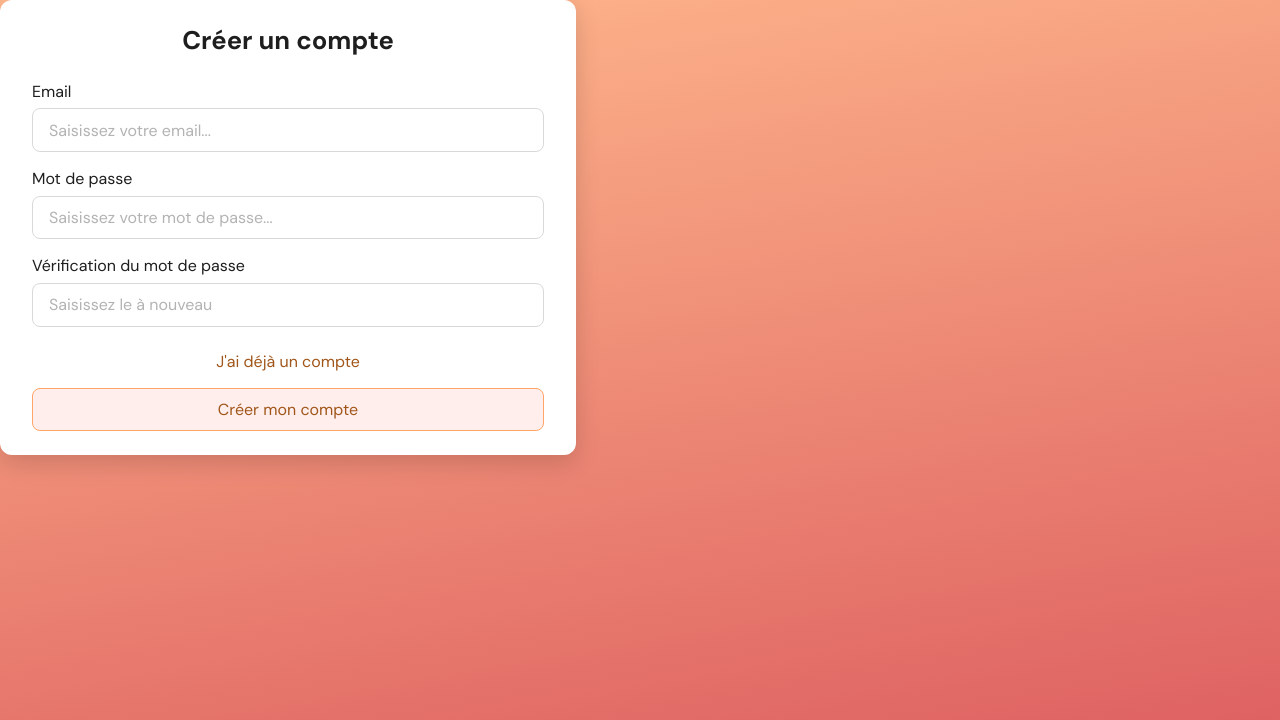
Page Créer un compte › affiche « Cet email est déjà utilisé » renvoyé par l’API
Type "bob@mail.fr" into the field labelled "Email" at (288, 130), box [32,108,544,152]
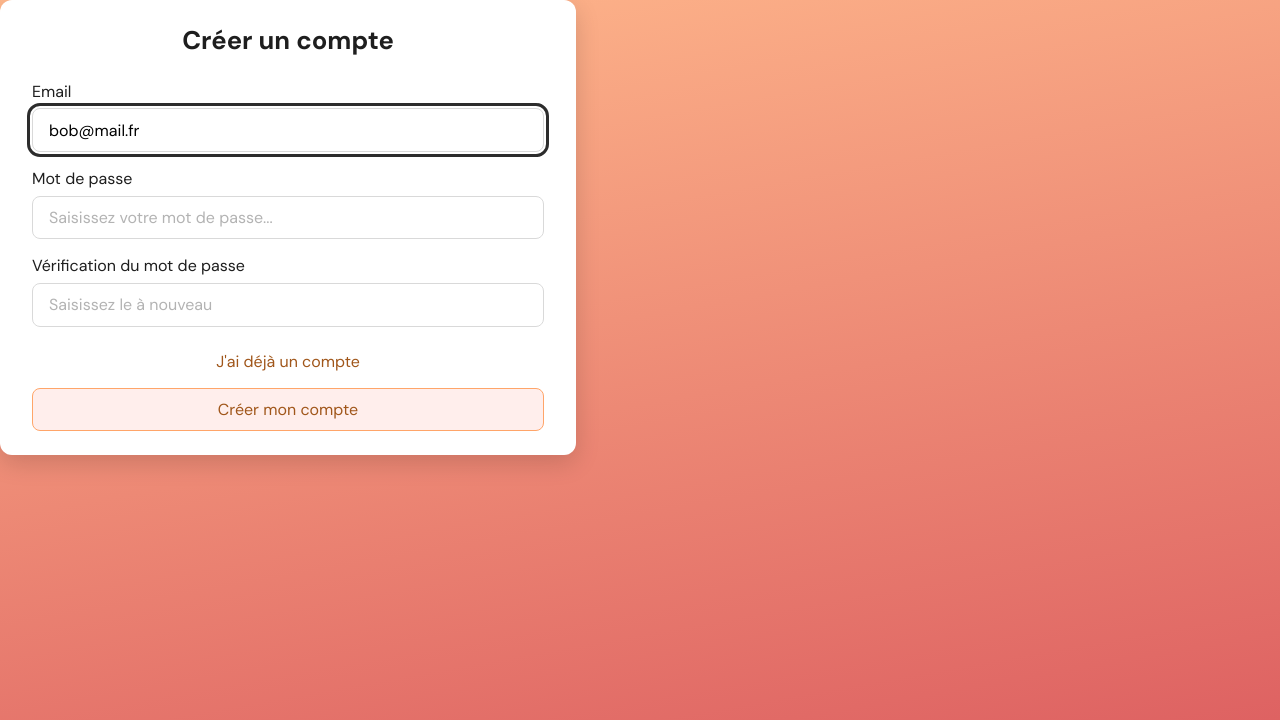
Type "motdepasse8" into the password field labelled "Mot de passe" at (288, 218), box [32,196,544,239]
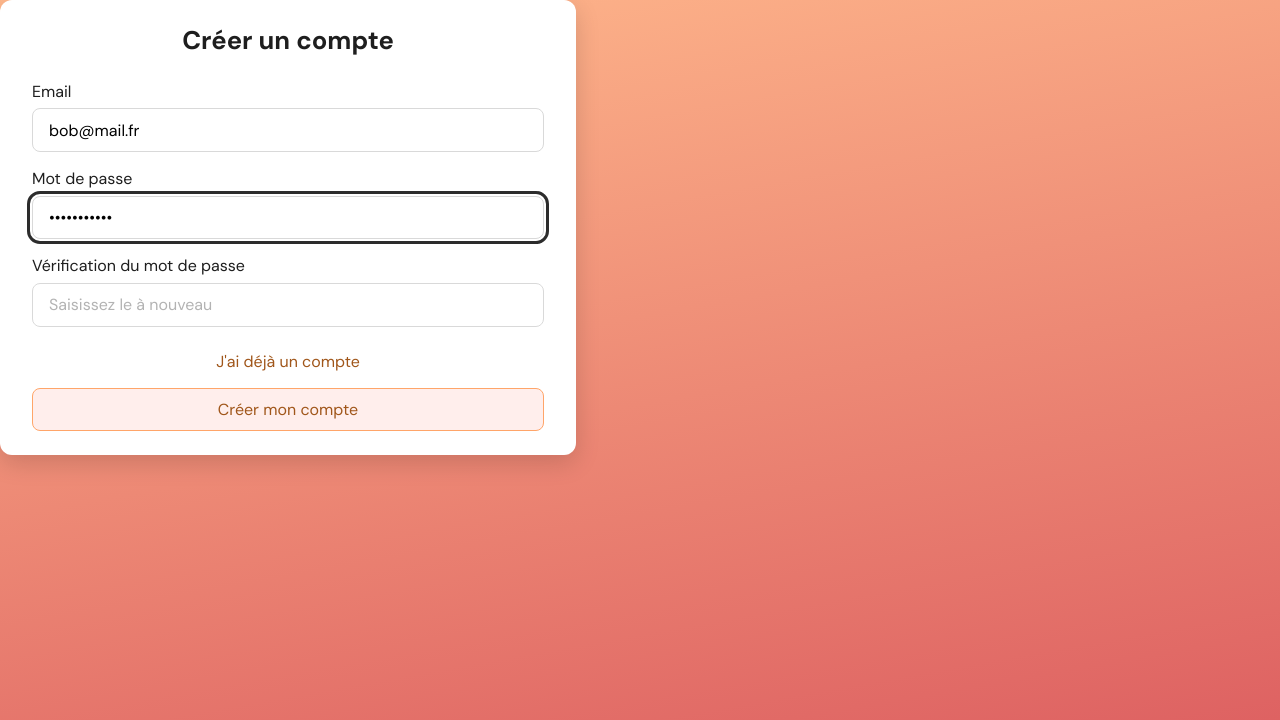
Type "motdepasse8" into the password field labelled "Vérification du mot de passe" at (288, 305), box [32,283,544,326]
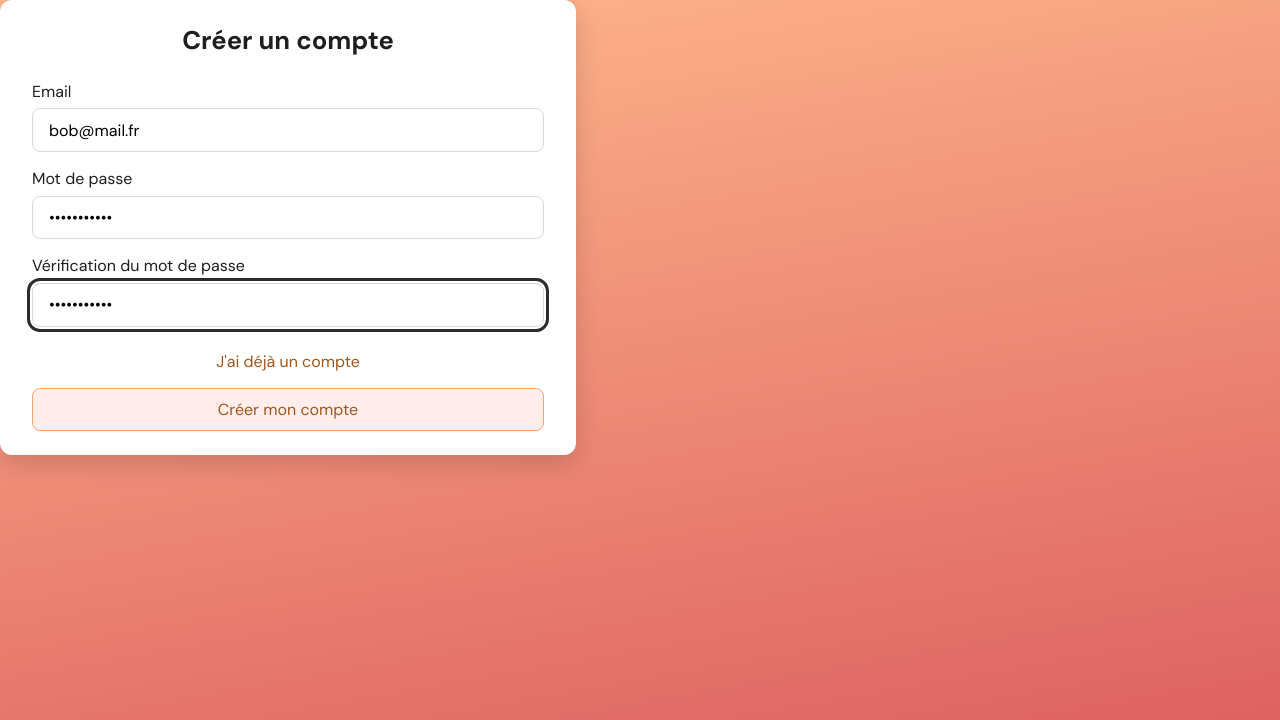
Click the button "Créer mon compte" at (288, 409), box [32,388,544,431]
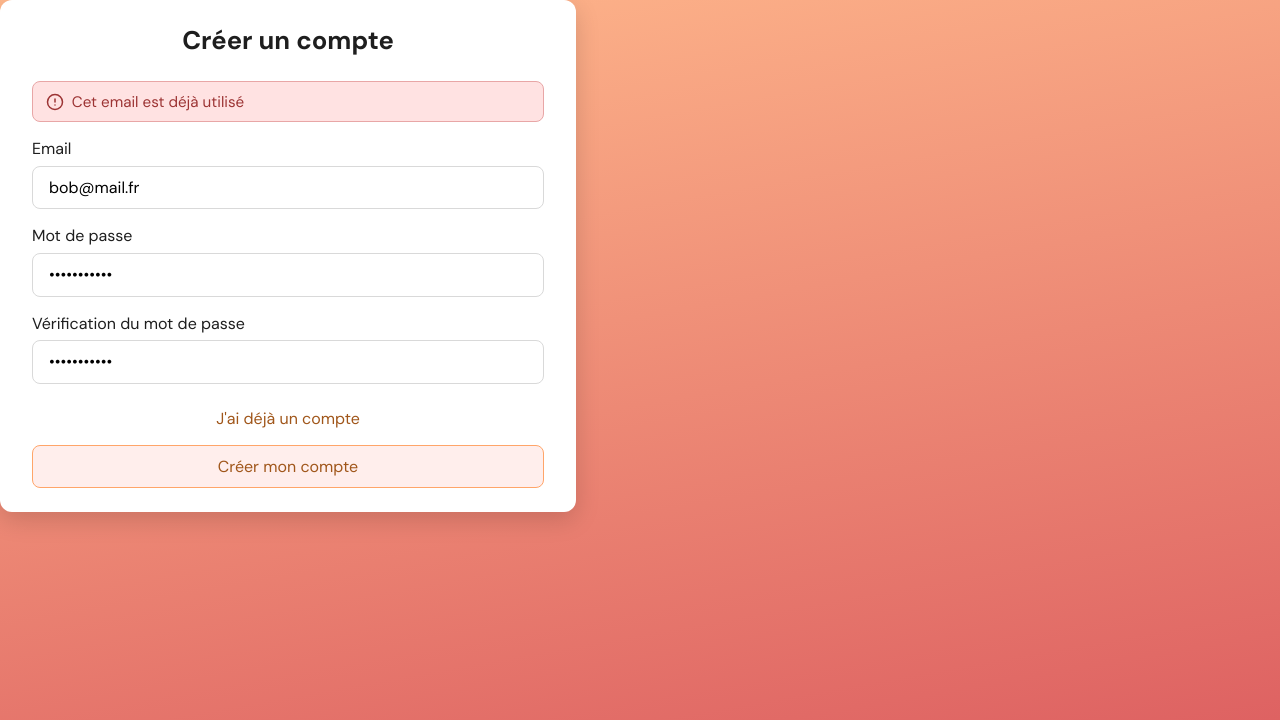
Expected: the message reads "Cet email est déjà utilisé", [72,92,244,112]
